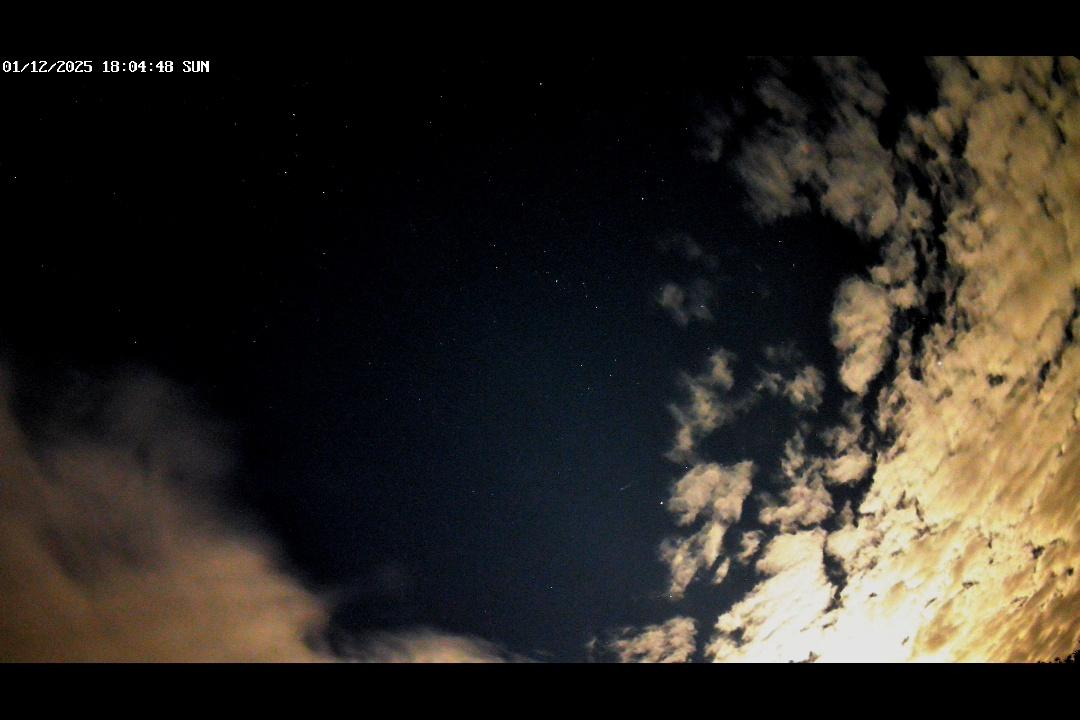Plane: (617, 479, 639, 492)
